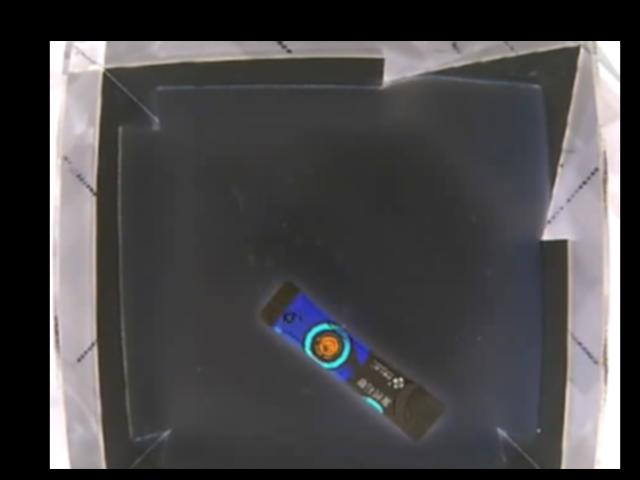Medicine: (255, 283, 446, 436)
